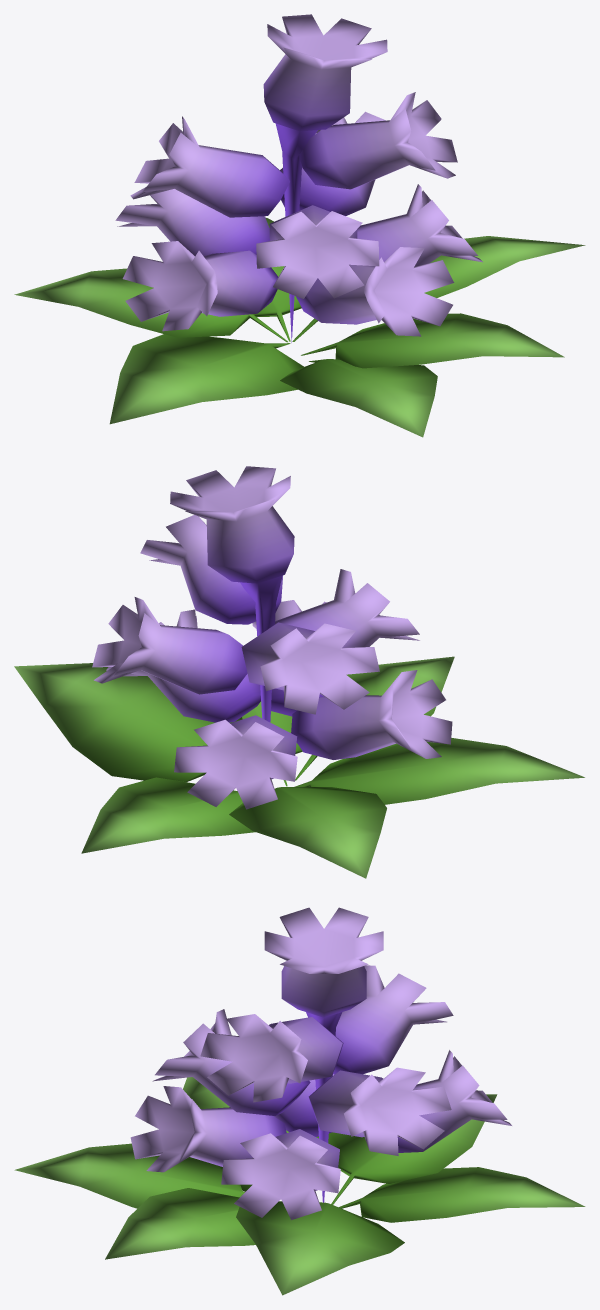
3 views of the same model, one above another, from view 1: azimuth 30°, elevation 25°; view 2: azimuth 150°, elevation 25°; view 3: azimuth 270°, elevation 25° (orthographic). The views are drawn at different scales.
Parts seen in each view (by area): view 1: fp28; view 2: fp28; view 3: fp28.
Boxes of the visible parts, x1,y1,x2,y2 form: fp28: (14, 14, 585, 437); fp28: (14, 466, 584, 878); fp28: (14, 907, 585, 1295).
Bounding box in the file's own units: 85.27 × 47.65 × 83.1.
